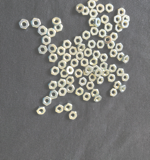nut: (19, 19, 30, 30), (31, 18, 41, 29), (96, 3, 106, 14), (37, 26, 48, 36), (62, 39, 73, 49), (54, 103, 64, 114), (50, 65, 60, 76), (47, 90, 59, 99), (75, 3, 85, 13), (42, 35, 52, 45), (47, 43, 57, 53), (42, 96, 52, 106), (73, 36, 83, 46), (38, 46, 49, 55), (74, 87, 85, 96), (106, 3, 115, 13), (107, 74, 117, 83), (82, 30, 91, 40), (82, 93, 92, 102), (48, 81, 58, 90), (48, 54, 58, 63), (57, 60, 67, 69), (98, 28, 107, 38), (101, 14, 110, 24), (104, 34, 113, 44), (70, 59, 80, 68), (66, 84, 75, 94), (58, 88, 68, 97), (79, 77, 88, 87), (36, 107, 47, 115), (57, 46, 65, 57), (65, 101, 73, 112), (69, 112, 78, 121), (47, 28, 56, 37), (90, 27, 99, 36), (84, 48, 93, 57), (88, 40, 97, 49), (109, 49, 118, 58), (60, 70, 69, 79), (109, 88, 118, 97), (100, 53, 109, 62), (86, 82, 95, 91), (83, 68, 92, 77), (52, 18, 62, 26), (70, 46, 78, 56), (63, 53, 71, 63), (88, 0, 96, 10), (114, 14, 122, 24), (58, 79, 66, 89), (75, 69, 83, 79), (92, 64, 100, 74), (89, 10, 99, 18), (118, 8, 126, 17), (122, 20, 130, 29), (105, 23, 113, 32), (54, 25, 63, 33), (81, 7, 90, 15), (78, 43, 86, 52), (115, 43, 123, 52), (110, 33, 119, 41), (123, 55, 131, 64), (117, 53, 126, 61), (66, 76, 74, 85), (81, 58, 89, 67), (100, 62, 109, 70), (107, 74, 116, 82), (109, 64, 118, 72), (90, 58, 99, 66), (94, 69, 103, 77), (88, 74, 97, 82), (86, 65, 93, 75), (122, 74, 130, 82), (97, 41, 105, 49), (76, 52, 84, 60), (107, 42, 115, 50), (67, 67, 75, 75), (118, 69, 126, 77), (97, 77, 105, 85), (92, 89, 100, 97), (89, 18, 96, 27), (123, 14, 130, 23), (93, 51, 102, 58), (116, 24, 123, 32), (114, 81, 122, 88), (95, 18, 101, 27), (120, 85, 127, 92), (103, 70, 110, 77), (94, 97, 102, 102), (92, 0, 101, 2)
